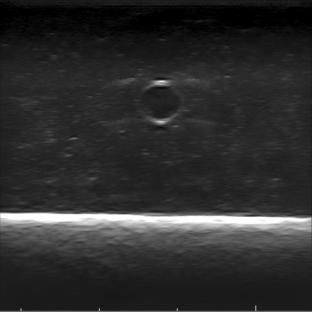vessel: (136, 80, 184, 125)
